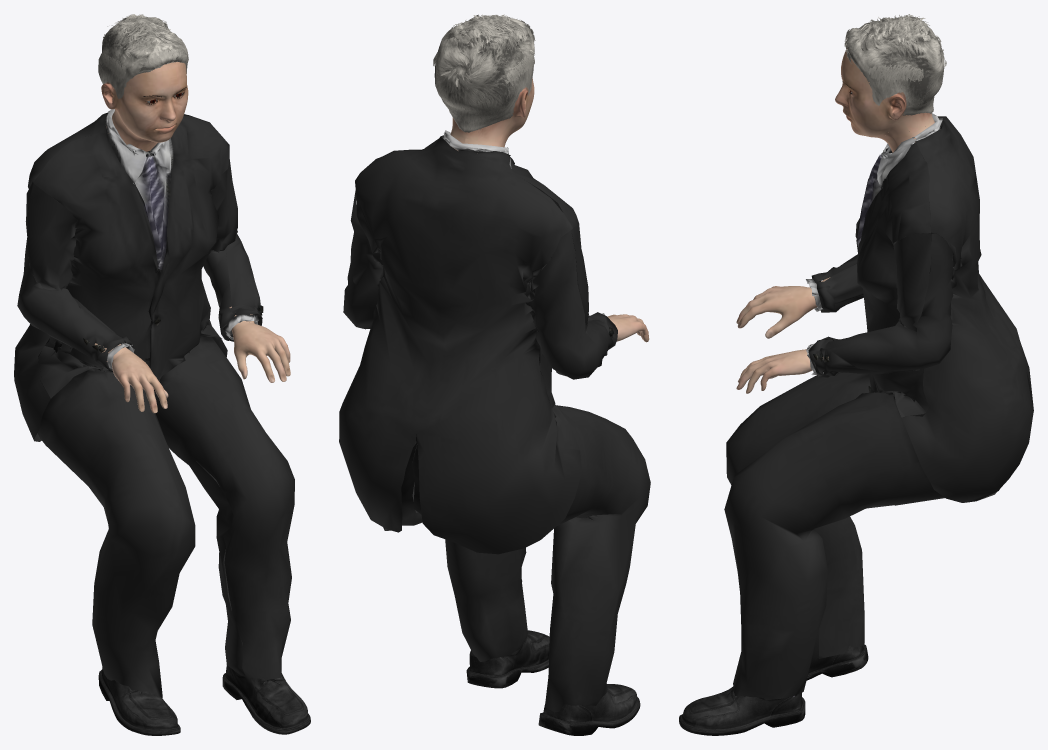
The model's file is seated.glb.
3 views of the same model, side by side, from view 1: azimuth 30°, elevation 25°; view 2: azimuth 150°, elevation 25°; view 3: azimuth 270°, elevation 25° (orthographic). The views are drawn at different scales.
Parts seen in each view (by area): view 1: male_elegantsuit01, Harper | anatomical body, shoes04, short01; view 2: male_elegantsuit01, short01, shoes04, Harper | anatomical body; view 3: male_elegantsuit01, Harper | anatomical body, short01, shoes04.
Boxes of the visible parts, x1,y1,x2,y2 form: male_elegantsuit01: (14,109,294,697); Harper | anatomical body: (94,62,290,413); shoes04: (98,665,310,735); short01: (98,14,188,98); male_elegantsuit01: (339,130,650,712); short01: (433,14,535,132); shoes04: (466,630,640,735); Harper | anatomical body: (450,78,649,342); male_elegantsuit01: (724,113,1033,700); Harper | anatomical body: (736,48,934,393); short01: (844,14,946,115); shoes04: (679,644,868,735).
Size of the model in its own units: 0.5133 by 1.45 by 0.6795.
Materials: 7 (7 with a texture image).
